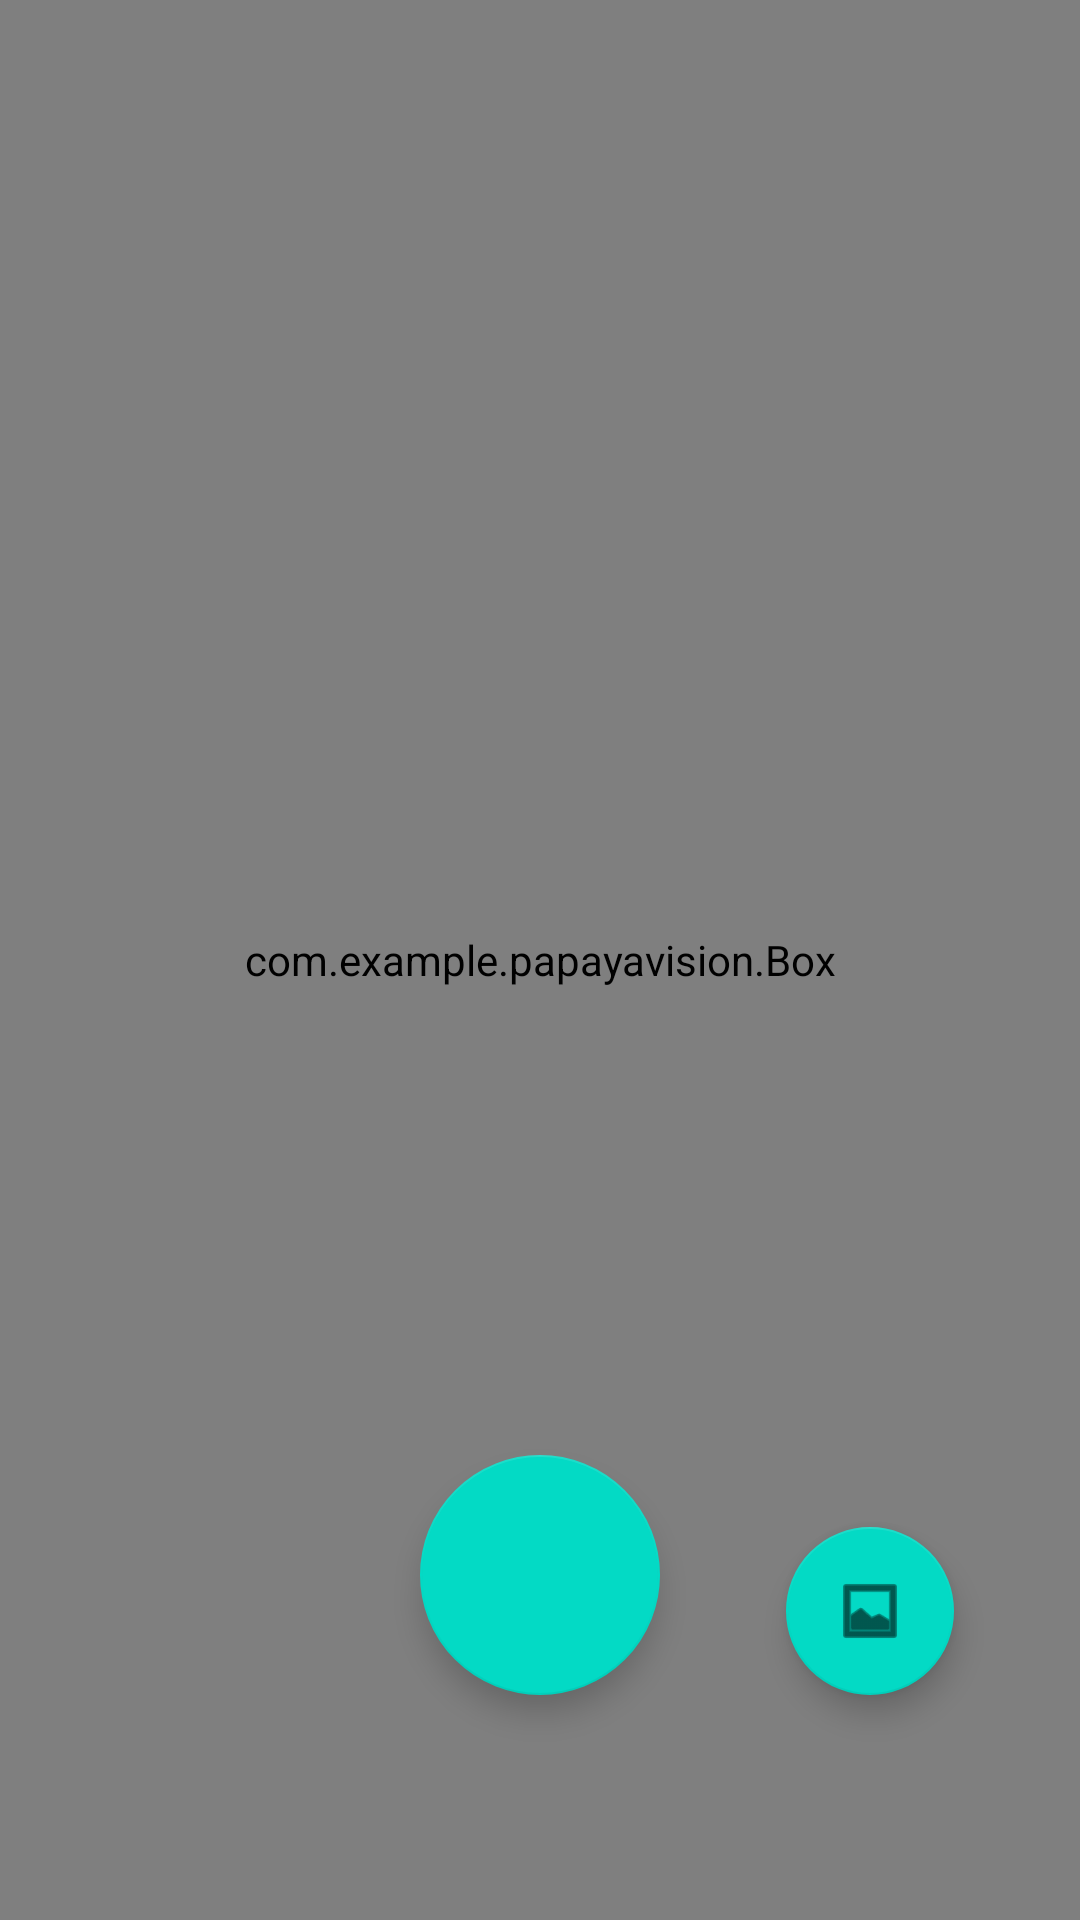

Where icons sit on this 1080 x 1920 app screen, as detection(x1, y1, x2, y2):
gallery: detection(786, 1527, 954, 1695)
